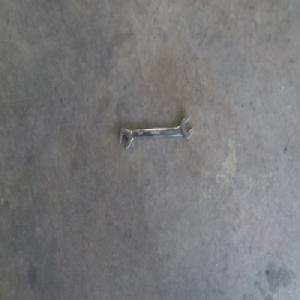Wrench: (118, 121, 194, 154)
